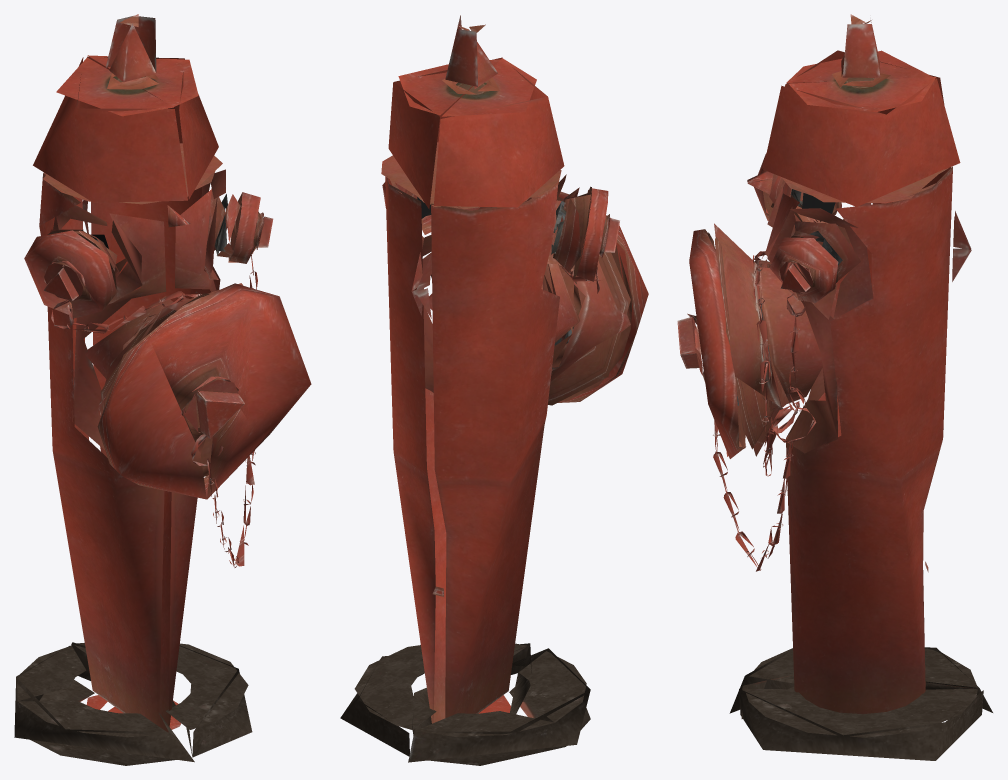
Rendered from hydrant_lo.gltf.
3 views of the same model, side by side, from view 1: azimuth 30°, elevation 25°; view 2: azimuth 150°, elevation 25°; view 3: azimuth 270°, elevation 25° (orthographic).
Visible parts, largest first — view 1: fire_hydrant, fire_hydrant_cap_01, fire_hydrant_cap_03, fire_hydrant_chain, fire_hydrant_cap_02; view 2: fire_hydrant, fire_hydrant_cap_01, fire_hydrant_cap_03; view 3: fire_hydrant, fire_hydrant_cap_01, fire_hydrant_chain, fire_hydrant_cap_02.
Part boxes in pixels (x1,y1,x2,y2): fire_hydrant: (14,14,252,765); fire_hydrant_cap_01: (97,283,311,499); fire_hydrant_cap_03: (24,230,116,318); fire_hydrant_chain: (51,214,258,567); fire_hydrant_cap_02: (228,192,273,263); fire_hydrant: (340,15,630,765); fire_hydrant_cap_01: (431,191,648,402); fire_hydrant_cap_03: (572,186,619,281); fire_hydrant: (714,14,992,760); fire_hydrant_cap_01: (677,229,745,458); fire_hydrant_chain: (713,251,816,571); fire_hydrant_cap_02: (769,235,838,302).
Bounding box in the file's own units: 0.2762 × 0.8036 × 0.3292.
1 material, 1 textured.
